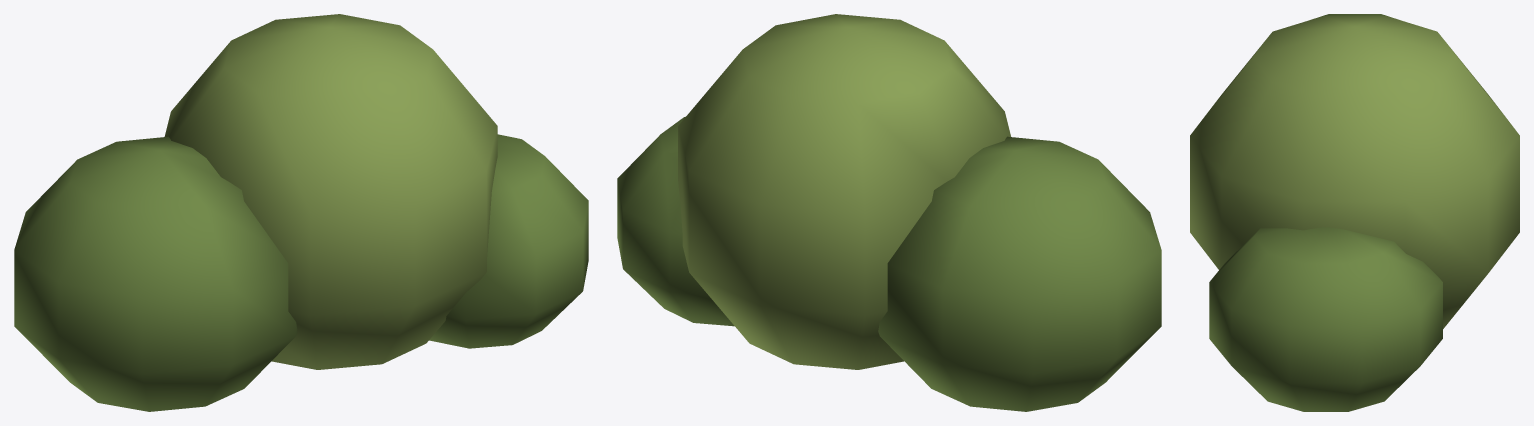
Rendered from bush.glb.
3 views of the same model, side by side, from view 1: azimuth 30°, elevation 25°; view 2: azimuth 150°, elevation 25°; view 3: azimuth 270°, elevation 25° (orthographic). The views are drawn at different scales.
Visible parts, largest first — view 1: bush; view 2: bush; view 3: bush.
Part boxes in pixels (bbox=[...]): bush: bbox=[14, 14, 588, 411]; bush: bbox=[617, 14, 1161, 411]; bush: bbox=[1190, 14, 1519, 411].
Bounding box in the file's own units: 1.98 × 1.2 × 1.14.
